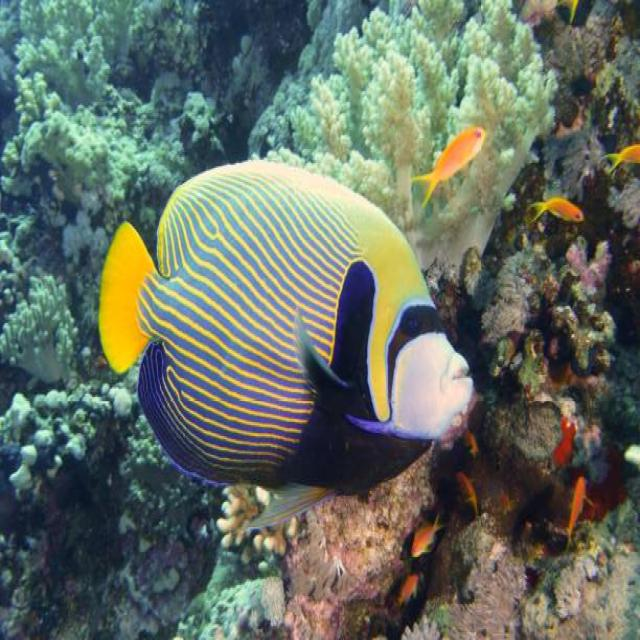AngelFish: (100, 162, 469, 524)
